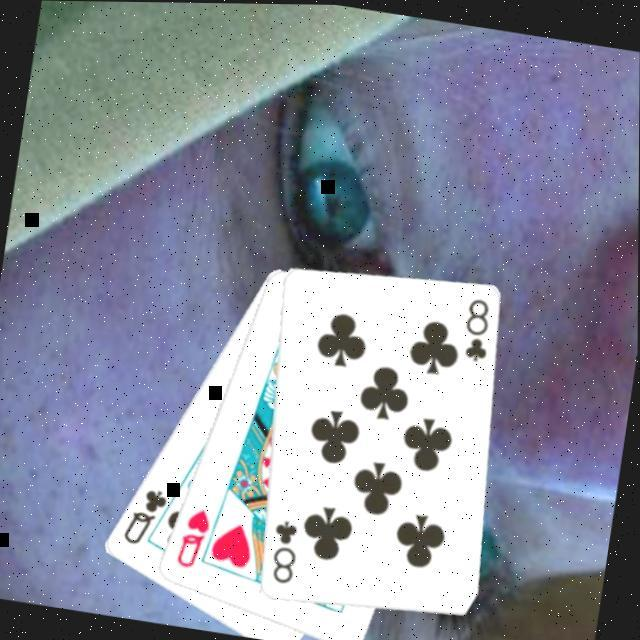8C: (456, 290, 497, 364), (263, 513, 304, 586)
QC: (117, 479, 171, 551)
QH: (171, 500, 214, 572)
